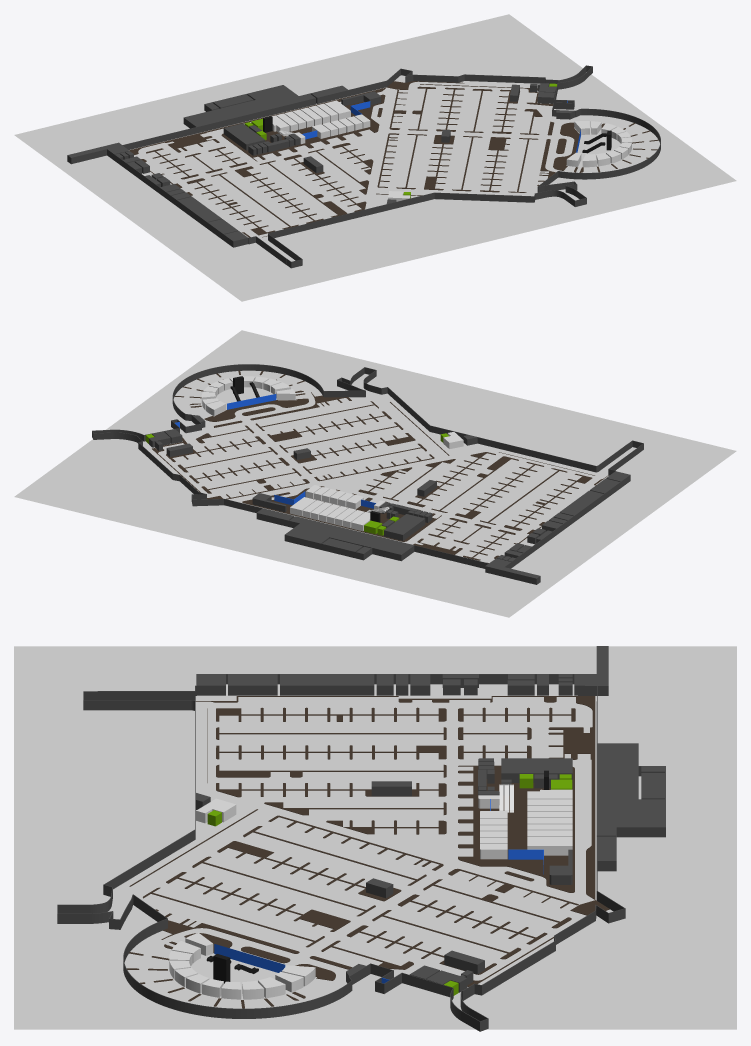
File: Basement FBX.FBX
3 renders of one model, top to bottom at view 1: azimuth 30°, elevation 25°; view 2: azimuth 150°, elevation 25°; view 3: azimuth 270°, elevation 25°, orthographic. The views are drawn at different scales.
Visible parts, largest first — view 1: Plane001, BF PRK, Layer:XA-FLPN-0B$0$A-B-ROADS, Shape001, Shape086, Layer:0, B TO 02, Shape051; view 2: Plane001, BF PRK, Layer:XA-FLPN-0B$0$A-B-ROADS, Shape001, Shape086, B TO 02; view 3: Plane001, BF PRK, Layer:XA-FLPN-0B$0$A-B-ROADS, Shape001, Shape086, Layer:0, Shape038, B TO 02, Shape037, Shape051, B 08, GATE 7 (+4 smaller).
Part boxes in pixels (<box>): Plane001: <box>14,14,736,301</box>; BF PRK: <box>142,80,590,240</box>; Layer:XA-FLPN-0B$0$A-B-ROADS: <box>146,81,658,237</box>; Shape001: <box>67,65,660,268</box>; Shape086: <box>184,85,315,133</box>; Layer:0: <box>129,87,385,195</box>; B TO 02: <box>223,123,265,150</box>; Shape051: <box>68,143,129,163</box>; Plane001: <box>14,330,736,617</box>; BF PRK: <box>125,381,606,559</box>; Layer:XA-FLPN-0B$0$A-B-ROADS: <box>152,370,608,560</box>; Shape001: <box>92,364,643,584</box>; Shape086: <box>285,516,413,554</box>; B TO 02: <box>384,514,425,540</box>; Plane001: <box>14,646,736,1029</box>; BF PRK: <box>87,702,611,1018</box>; Layer:XA-FLPN-0B$0$A-B-ROADS: <box>126,696,609,1008</box>; Shape001: <box>57,646,665,1031</box>; Shape086: <box>596,743,665,837</box>; Layer:0: <box>398,696,595,899</box>; Shape038: <box>280,674,374,695</box>; B TO 02: <box>501,758,572,782</box>; Shape037: <box>228,674,277,695</box>; Shape051: <box>574,646,608,695</box>; B 08: <box>527,836,572,855</box>; GATE 7: <box>214,944,285,972</box>.
Bounding box in the file's own units: 370 × 12.09 × 293.
